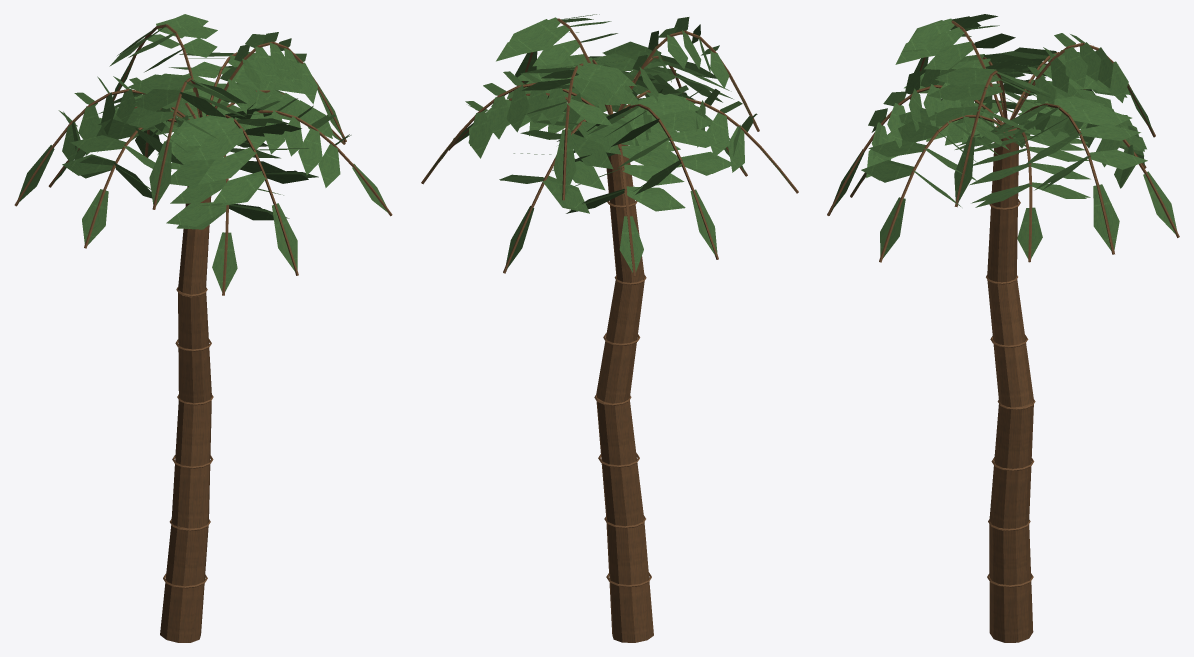
The model's file is en-007_palm_tree_variant_set__young.obj.
3 views of the same model, side by side, from view 1: azimuth 30°, elevation 25°; view 2: azimuth 150°, elevation 25°; view 3: azimuth 270°, elevation 25° (orthographic). The views are drawn at different scales.
Parts seen in each view (by area): view 1: en-007_palm_tree_variant_set__young; view 2: en-007_palm_tree_variant_set__young; view 3: en-007_palm_tree_variant_set__young.
Part boxes in pixels (bbox=[...]): en-007_palm_tree_variant_set__young: bbox=[14, 14, 392, 642]; en-007_palm_tree_variant_set__young: bbox=[421, 14, 798, 642]; en-007_palm_tree_variant_set__young: bbox=[827, 14, 1179, 642].
Bounding box in the file's own units: 1.74 × 3.2 × 1.7.
2 materials, 2 textured.
